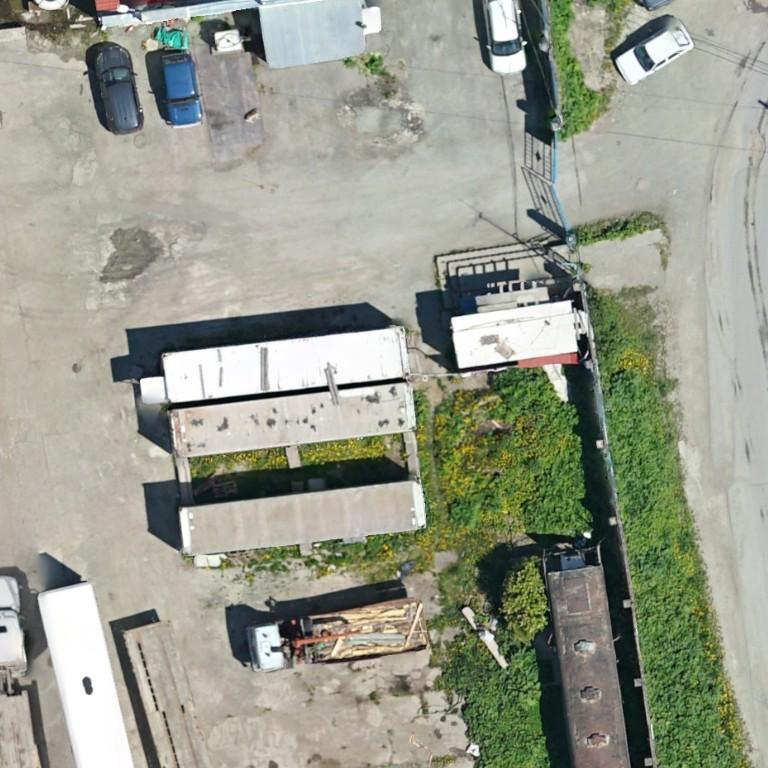hogweed: (595, 295, 749, 767), (522, 444, 597, 536), (489, 368, 581, 432)
